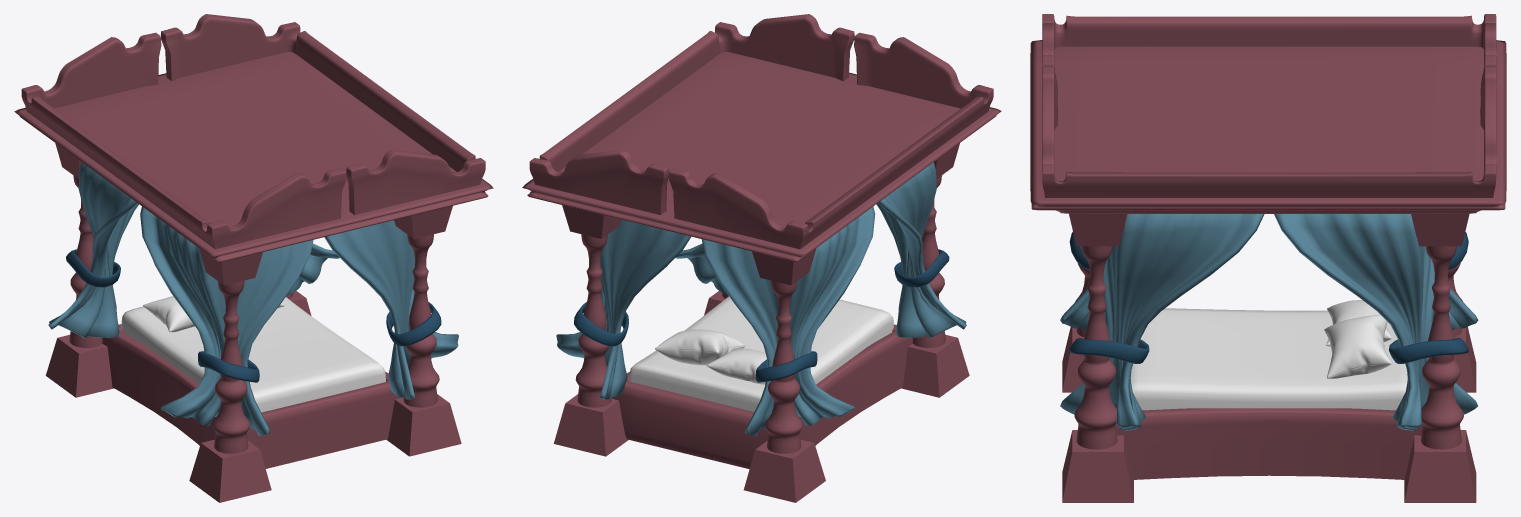
The model's file is BedAsset.fbx.
The picture shows the model from 3 angles, left to right: view 1: azimuth 30°, elevation 25°; view 2: azimuth 150°, elevation 25°; view 3: azimuth 270°, elevation 25°; orthographic projection. The views are drawn at different scales.
Visible parts, largest first — view 1: Wardrobe.003, Plane.009, Cube.098, Cylinder.054, Plane.010; view 2: Wardrobe.003, Plane.009, Cube.098, Cylinder.054, Plane.011, Plane.010; view 3: Wardrobe.003, Plane.009, Cube.098, Cylinder.054, Plane.011, Plane.010.
Part boxes in pixels (x1,y1,x2,y2): Wardrobe.003: [14, 14, 493, 502]; Plane.009: [48, 162, 458, 436]; Cube.098: [121, 297, 385, 412]; Cylinder.054: [66, 249, 441, 382]; Plane.010: [143, 296, 194, 332]; Wardrobe.003: [522, 14, 1001, 502]; Plane.009: [556, 162, 966, 435]; Cube.098: [629, 296, 893, 411]; Cylinder.054: [574, 249, 949, 382]; Plane.011: [655, 329, 745, 365]; Plane.010: [706, 348, 766, 384]; Wardrobe.003: [1030, 14, 1506, 502]; Plane.009: [1060, 214, 1478, 430]; Cube.098: [1130, 308, 1407, 410]; Cylinder.054: [1069, 232, 1468, 363]; Plane.011: [1324, 315, 1391, 378]; Plane.010: [1326, 300, 1391, 346].
Bounding box in the file's own units: 283 × 330 × 286.
